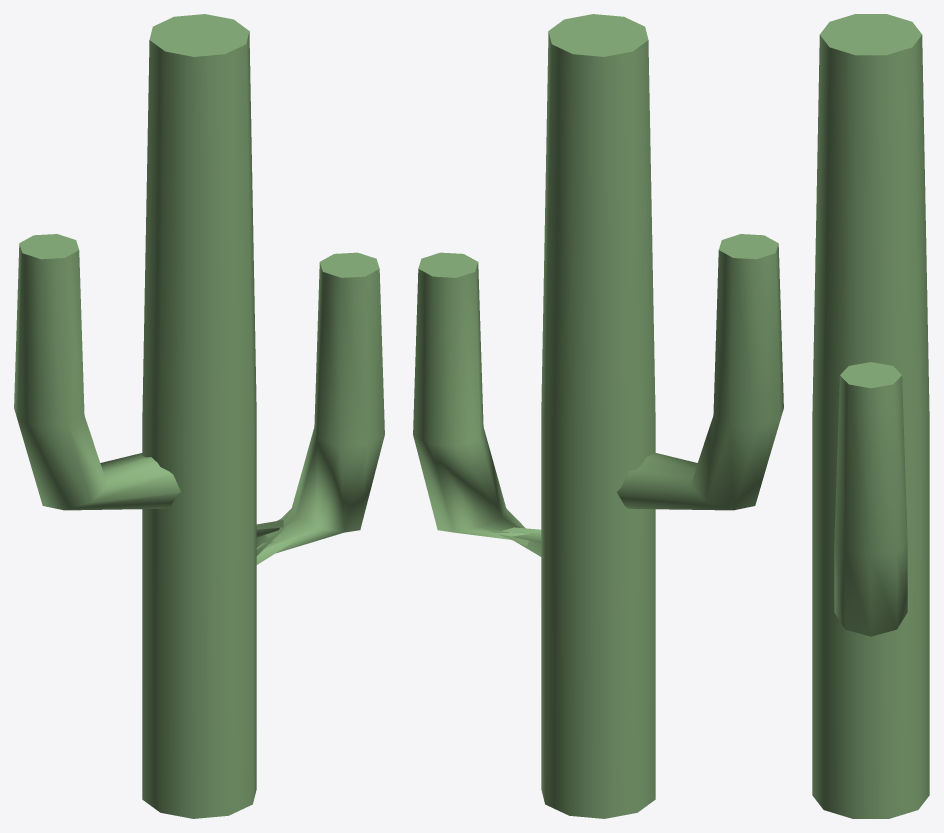
Rendered from cactus_a.glb.
3 renders of one model, left to right at view 1: azimuth 30°, elevation 25°; view 2: azimuth 150°, elevation 25°; view 3: azimuth 270°, elevation 25°, orthographic.
Parts seen in each view (by area): view 1: Cactus; view 2: Cactus; view 3: Cactus.
Boxes of the visible parts, <box> form: Cactus: <box>14,14,384,818</box>; Cactus: <box>413,14,783,818</box>; Cactus: <box>812,14,929,818</box>.
Size of the model in its own units: 2.3 by 4.59 by 0.64.
